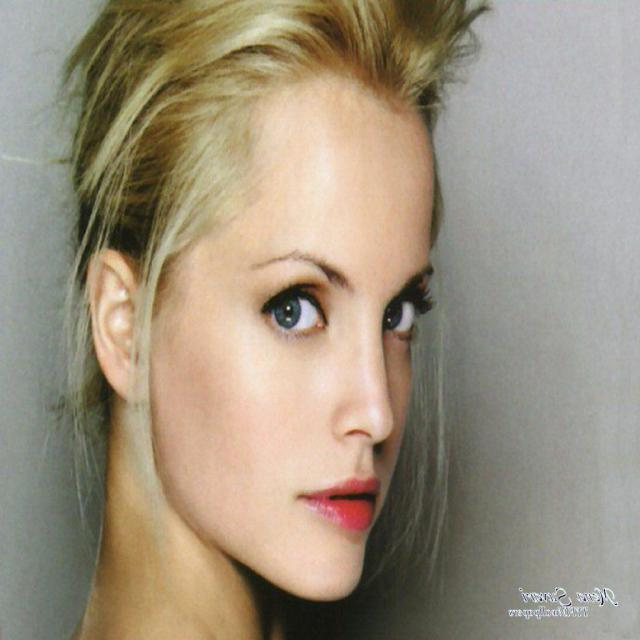no-earmuff: (78, 225, 162, 407)
